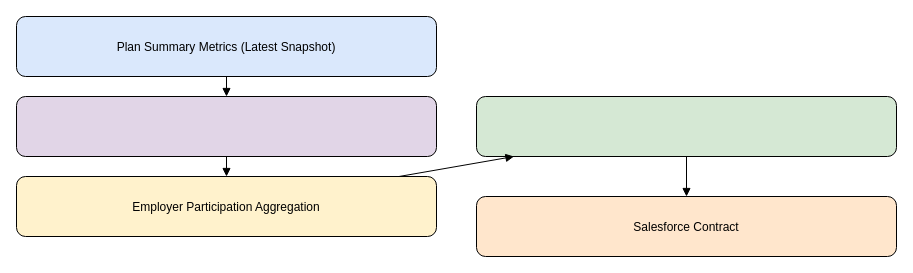
This 913x273 diagram has some shape labels left out. The centre of each missing label's shape, as x and y in pixels:
"Outbound Investment Services View" goes at pixel 686 126.
"Service Feature Normalization (UNION ALL)" goes at pixel 226 126.
